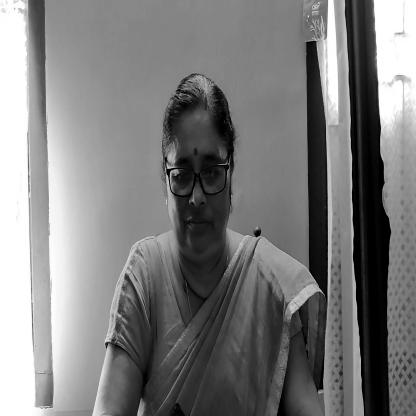Normal: (168, 74, 236, 260)
